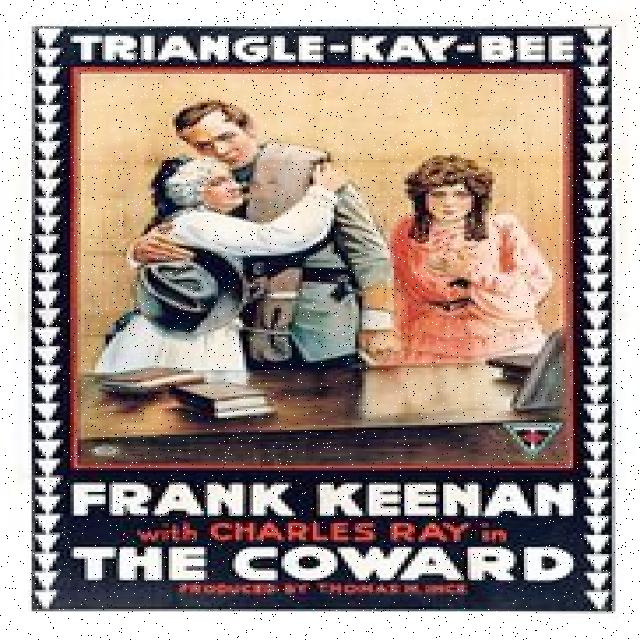movie-judul: (69, 541, 578, 584)
picture: (79, 73, 569, 468)
